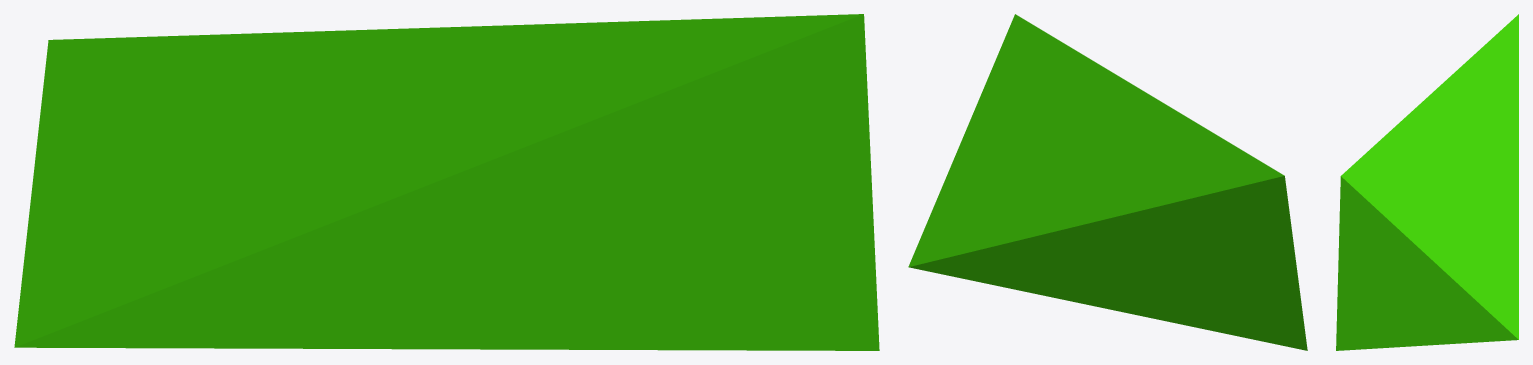
File: garden_table_convex_piece_003.obj
The picture shows the model from 3 angles, left to right: view 1: azimuth 30°, elevation 25°; view 2: azimuth 150°, elevation 25°; view 3: azimuth 270°, elevation 25°; orthographic projection. The views are drawn at different scales.
Size of the model in its own units: 0.0772 by 0.0363 by 0.0346.
